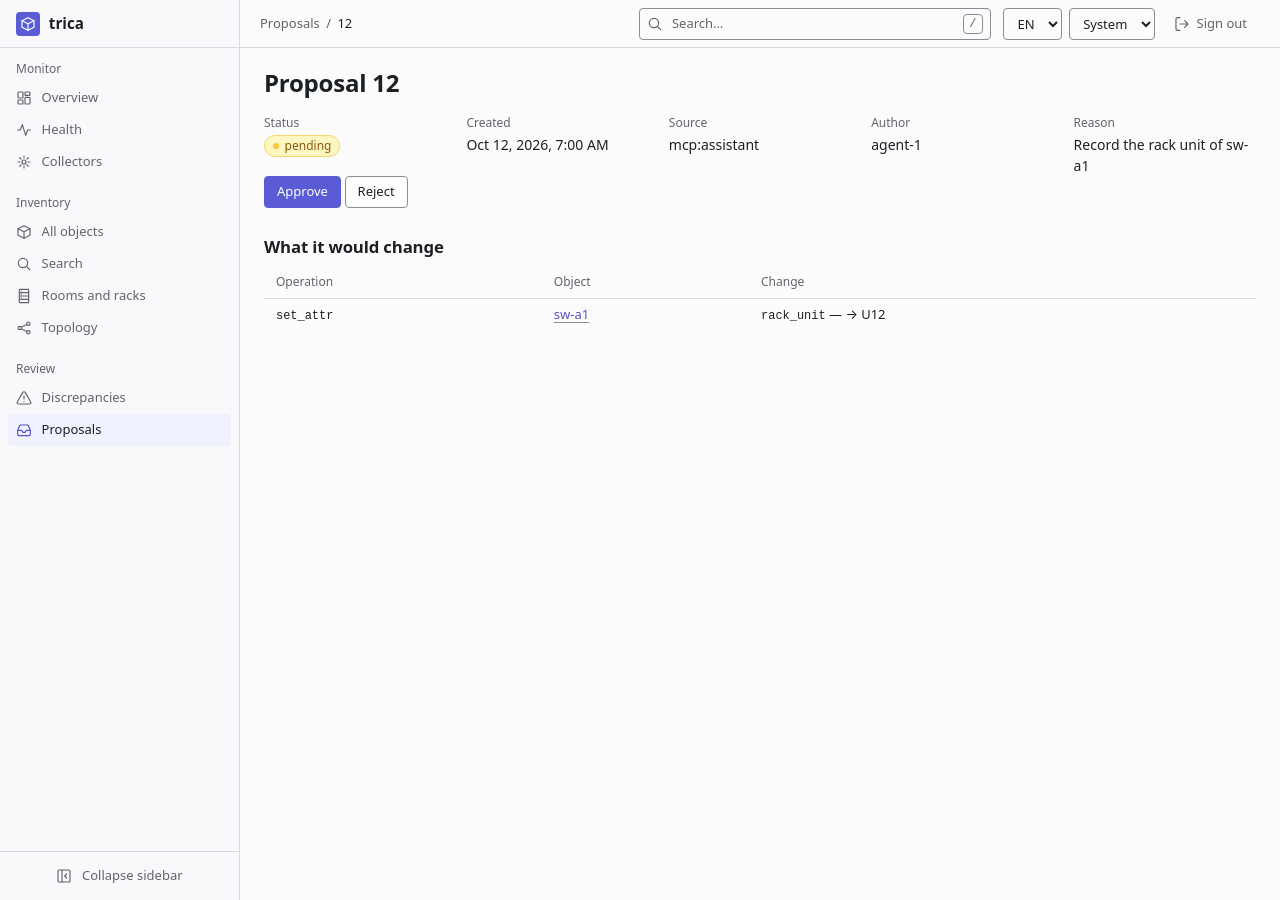
deciding › works from the detail page too, and refreshes the proposal
The width and height of the screenshot is (1280, 900).
Click the button "Approve" at (302, 192), box [264,176,341,208]
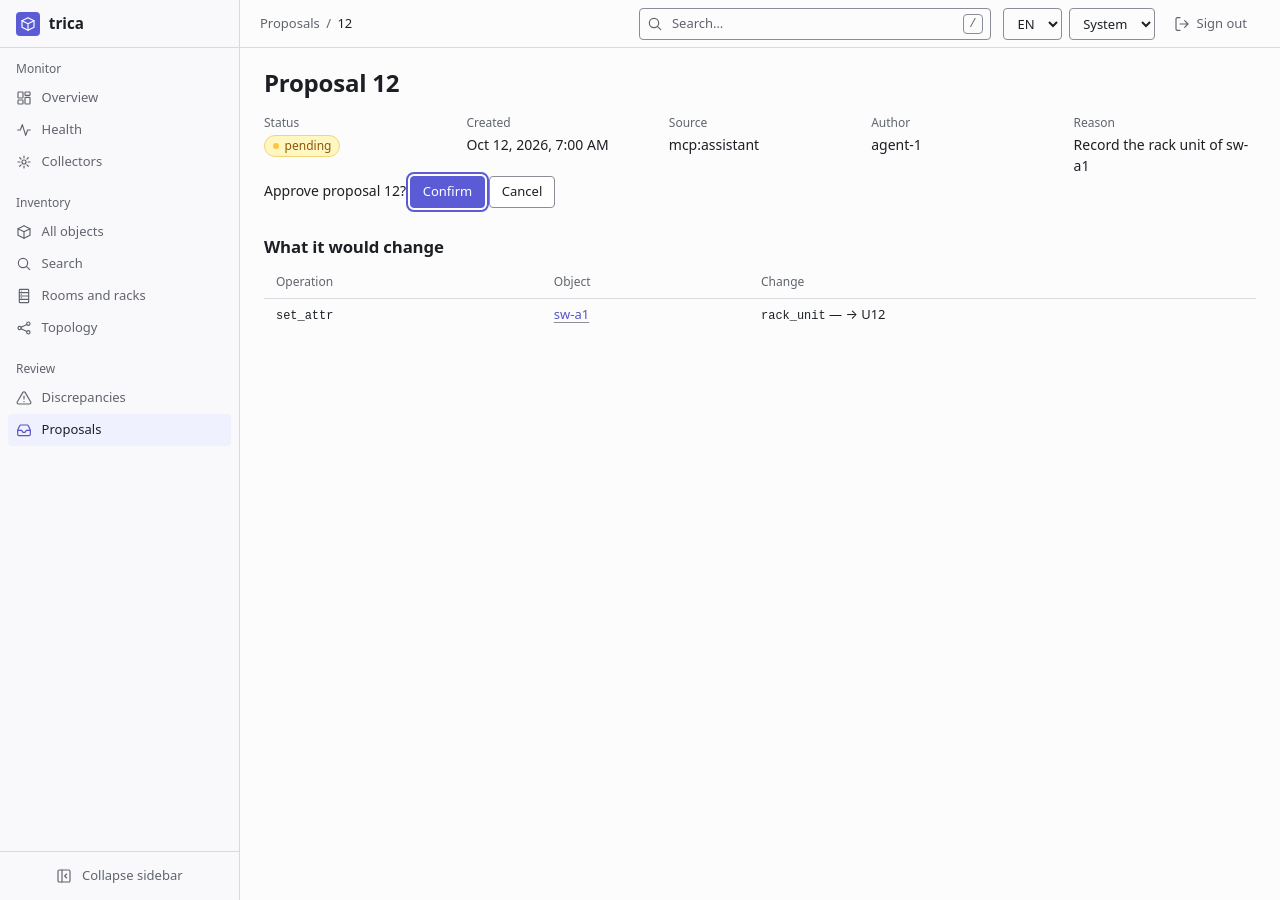
Click the button "Confirm" at (447, 192), box [410,176,485,208]
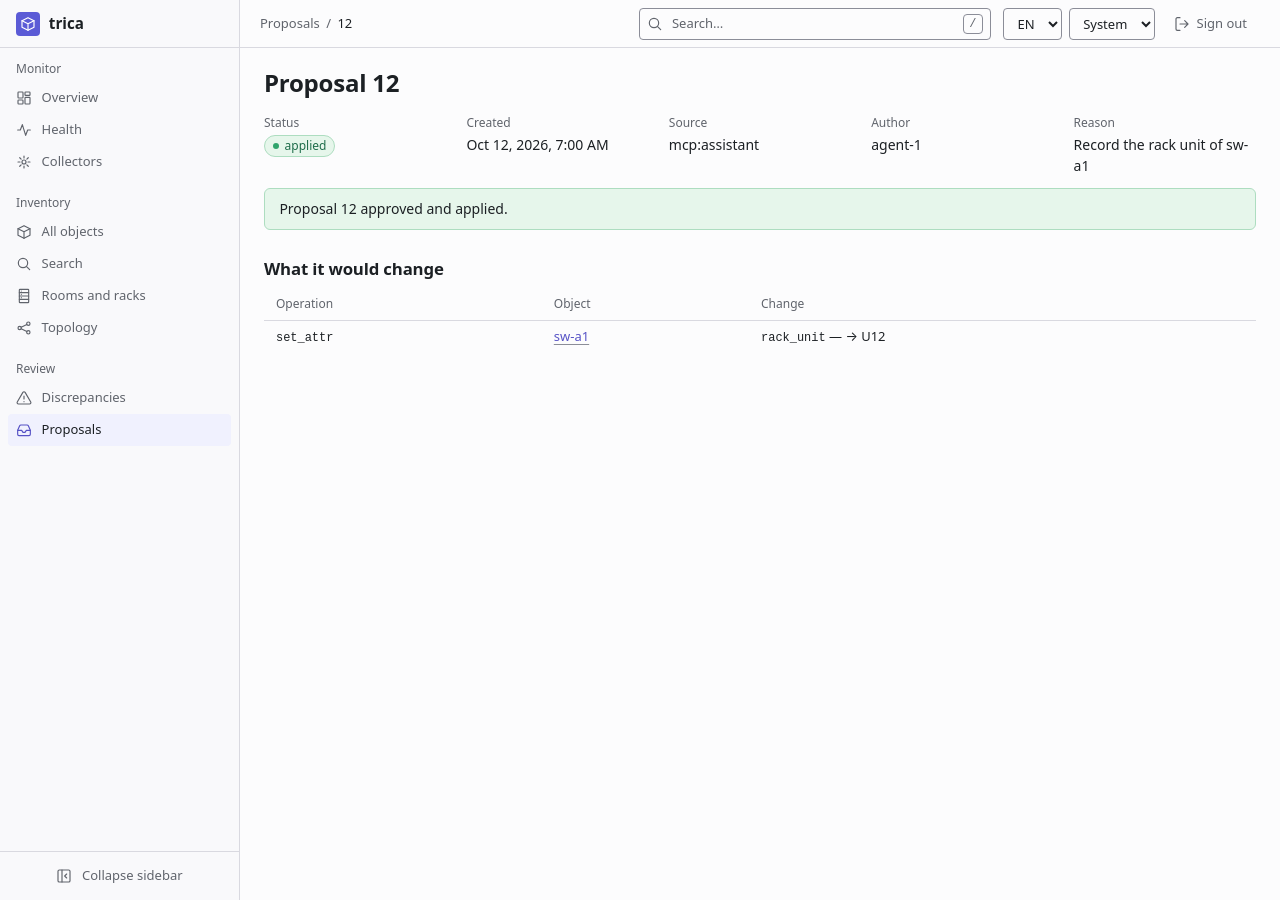
Now the text "Proposal 12 approved and applied." is shown, box [264,188,1256,230]
